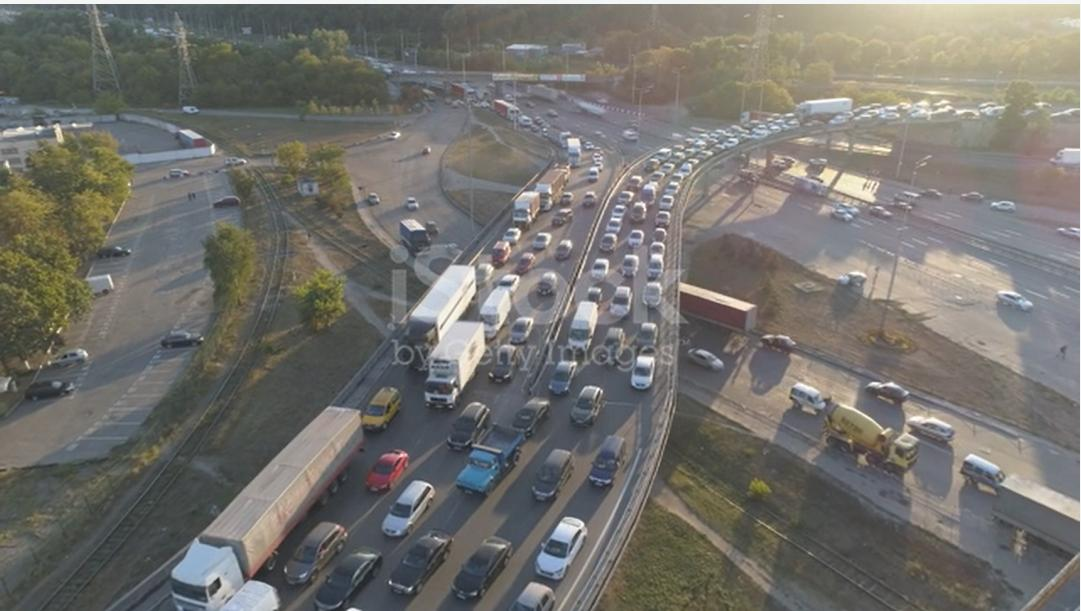bus: (397, 214, 430, 263)
car: (445, 531, 522, 611), (520, 518, 600, 587), (278, 515, 345, 593), (388, 530, 455, 600), (312, 538, 375, 611), (377, 478, 442, 542), (352, 382, 417, 444), (952, 446, 1016, 498), (531, 444, 575, 513), (590, 426, 629, 496), (445, 402, 488, 458), (474, 287, 514, 346), (22, 373, 85, 409), (371, 445, 414, 495), (156, 322, 218, 356), (904, 414, 967, 447), (565, 297, 597, 358), (783, 379, 835, 416), (36, 344, 99, 374), (863, 376, 920, 408), (516, 389, 549, 441), (486, 344, 526, 386), (569, 384, 607, 427), (998, 284, 1037, 325), (630, 348, 659, 400), (685, 342, 723, 377), (600, 324, 626, 373), (757, 329, 800, 357), (608, 282, 638, 321), (549, 358, 573, 401), (508, 312, 540, 344), (868, 201, 898, 231), (639, 284, 665, 316), (825, 207, 863, 227), (635, 320, 658, 352), (536, 271, 559, 300), (549, 207, 579, 227), (553, 238, 578, 261), (491, 238, 510, 268), (516, 250, 535, 279), (620, 253, 640, 280), (626, 226, 643, 253), (600, 231, 618, 256), (631, 198, 647, 226), (646, 254, 662, 281), (534, 229, 551, 254), (915, 186, 943, 201), (606, 209, 622, 235), (580, 190, 603, 206), (627, 173, 643, 196), (618, 188, 634, 209), (591, 258, 606, 280), (585, 165, 603, 183), (698, 148, 717, 164), (657, 209, 671, 230), (656, 147, 673, 164), (661, 194, 675, 214), (649, 170, 666, 186), (664, 181, 679, 197), (679, 162, 694, 178), (724, 137, 741, 151)
truck: (164, 391, 377, 610), (819, 401, 943, 486), (398, 255, 480, 373), (424, 319, 497, 417), (455, 412, 530, 503), (524, 162, 569, 211), (794, 95, 856, 121), (512, 189, 541, 234), (565, 134, 583, 171)
